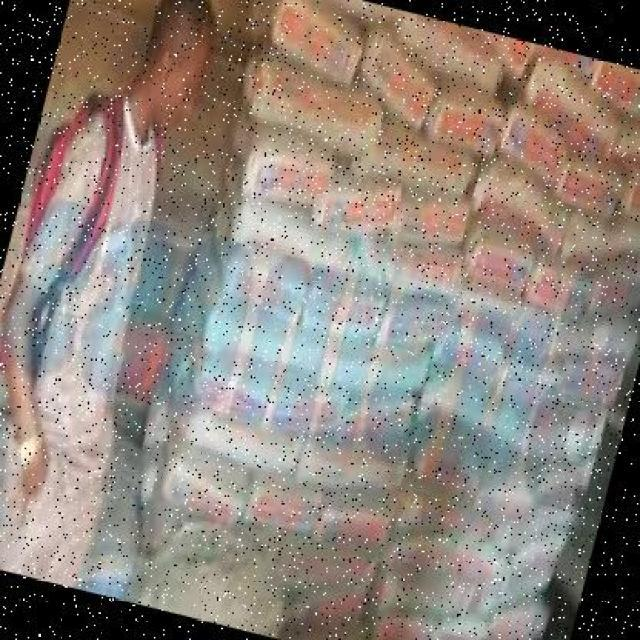gunny_bag: (223, 159, 356, 277), (242, 50, 380, 156), (223, 97, 334, 212), (353, 108, 476, 192), (523, 58, 623, 160), (469, 165, 567, 264), (265, 0, 366, 92), (159, 433, 249, 536), (396, 12, 505, 95), (357, 23, 437, 129), (445, 288, 556, 359), (424, 73, 503, 160), (354, 242, 465, 302), (496, 105, 570, 186), (551, 152, 626, 222), (460, 229, 530, 304), (313, 489, 398, 550), (547, 316, 639, 371), (242, 476, 326, 535), (457, 27, 535, 89), (317, 184, 404, 237), (389, 190, 471, 246), (524, 259, 599, 320), (559, 213, 640, 264), (585, 59, 640, 124), (446, 539, 509, 594), (384, 529, 458, 574), (589, 256, 640, 317), (508, 538, 568, 589), (330, 0, 406, 35), (532, 44, 589, 86), (612, 120, 640, 168), (617, 167, 640, 224)
